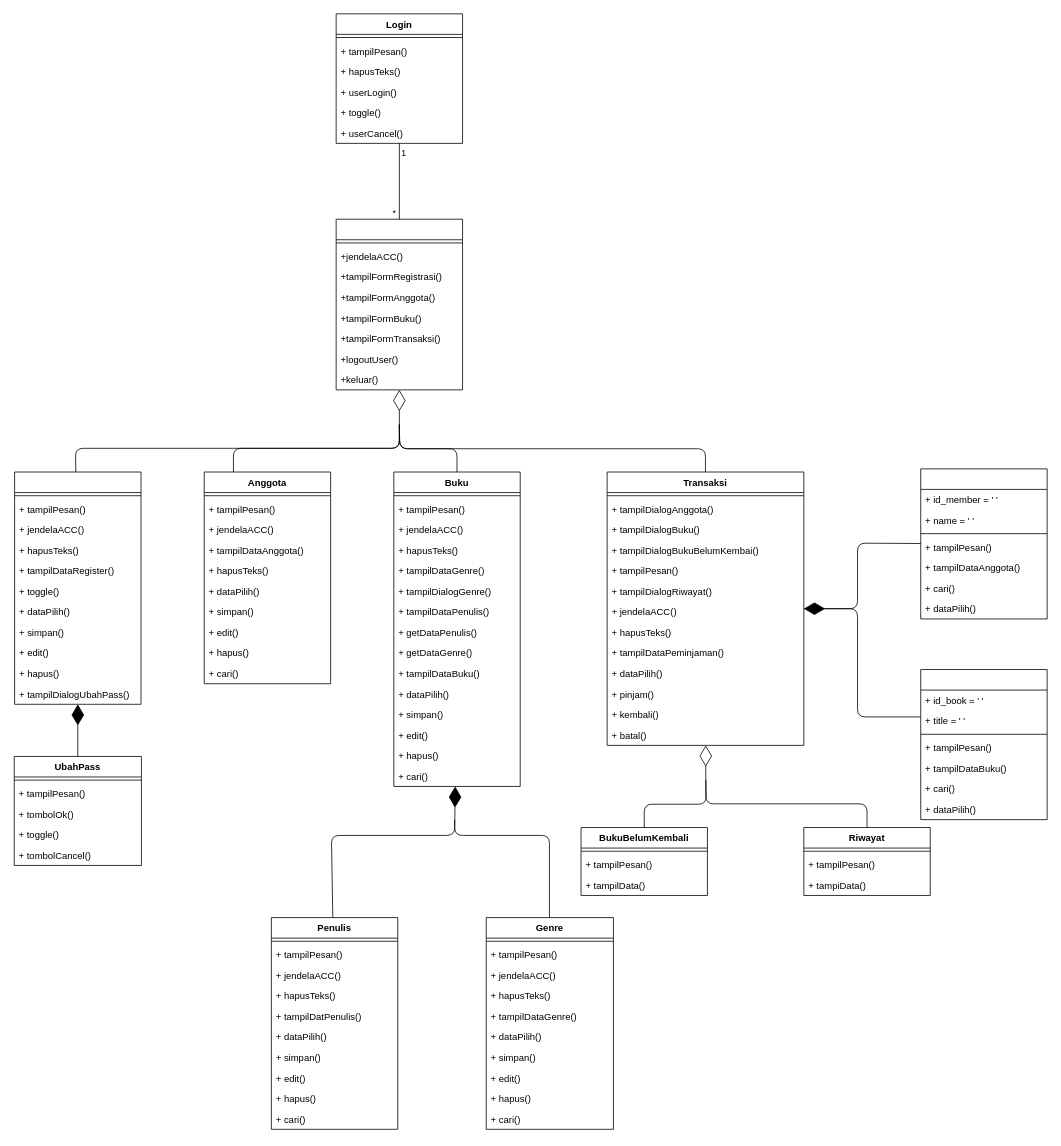
The diagram is 1061 pixels wide and 1146 high, and some of its shapes have lost their labels. Here are the shapes that lost their labels. From the top down, the box of each, then its label:
(335, 218, 463, 390): FormMain
(920, 468, 1047, 619): CariAnggota
(14, 471, 141, 704): Registration
(920, 669, 1047, 820): CariBuku
